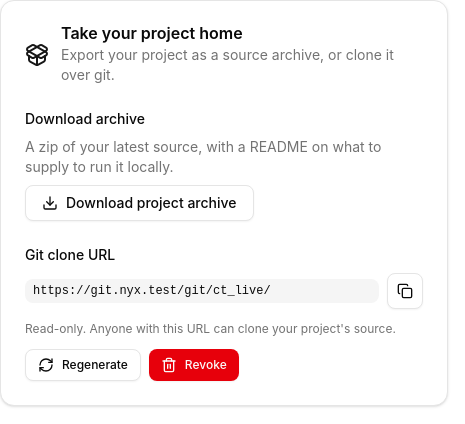
Test: HandoffPanel — clone URL management › Revoke removes the clone URL and shows the revoked note (SC-043)
expect the text "https://git.nyx.test/git/ct_live/" is shown: met, box [25,279,379,303]
Click the button with test id "handoff-clone-revoke" at (194, 365), box [149,349,239,381]
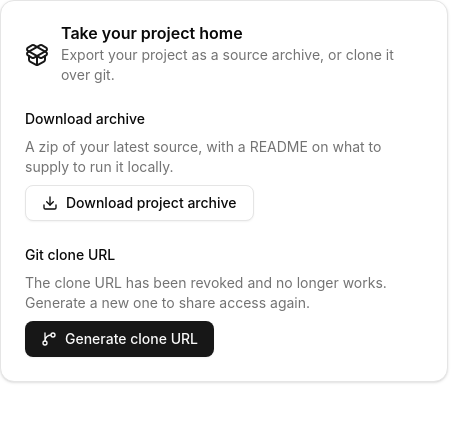
expect the text with test id "handoff-clone-url" is gone: met
expect the message with test id "handoff-revoked-note" is shown: met, box [25,273,423,313]
